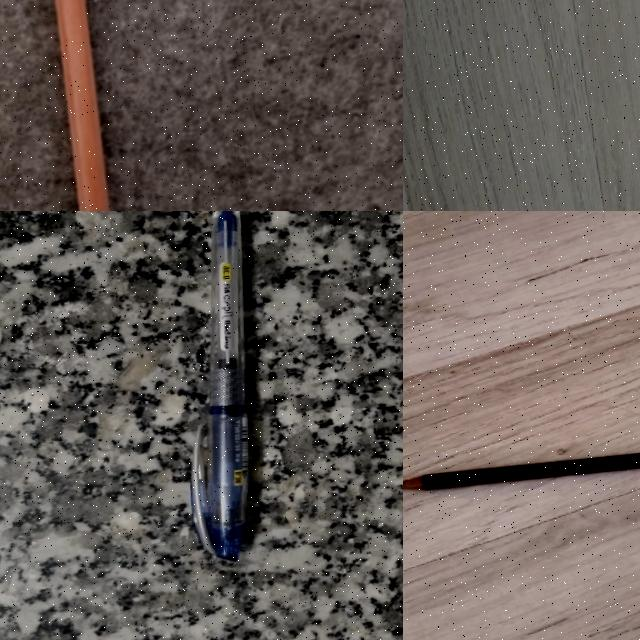pen: (191, 211, 248, 560)
pencil: (55, 0, 108, 210), (403, 454, 639, 490)
